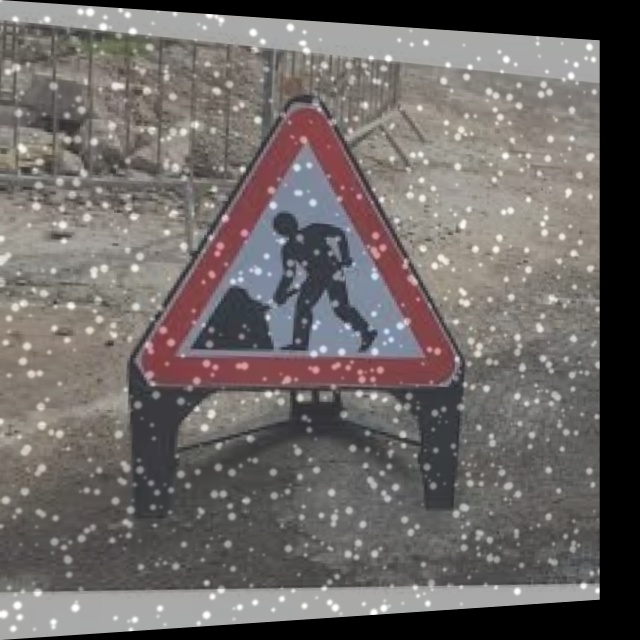Men_at_Work: (127, 75, 473, 394)
